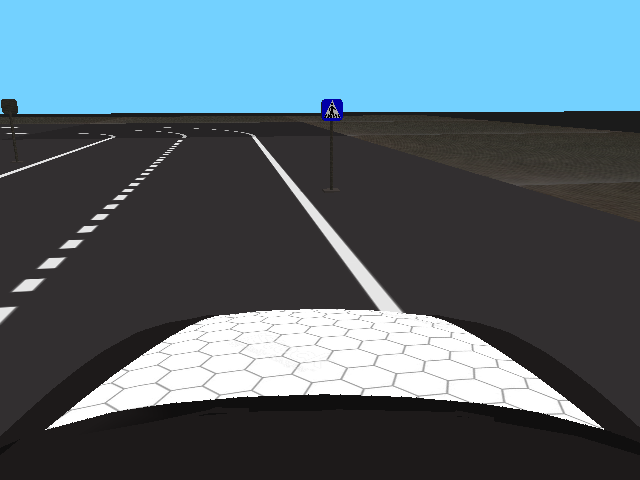pedestrian_cross: (320, 98, 344, 121)
